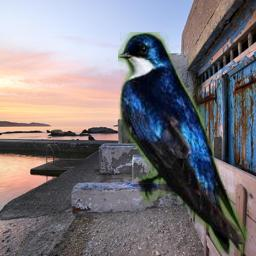Swallow: (118, 32, 248, 255)
